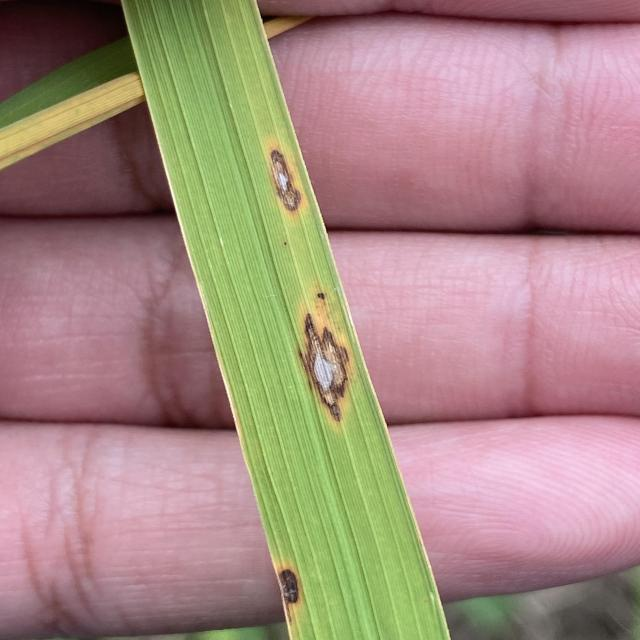Dao on: (302, 311, 349, 422), (270, 149, 302, 213)
